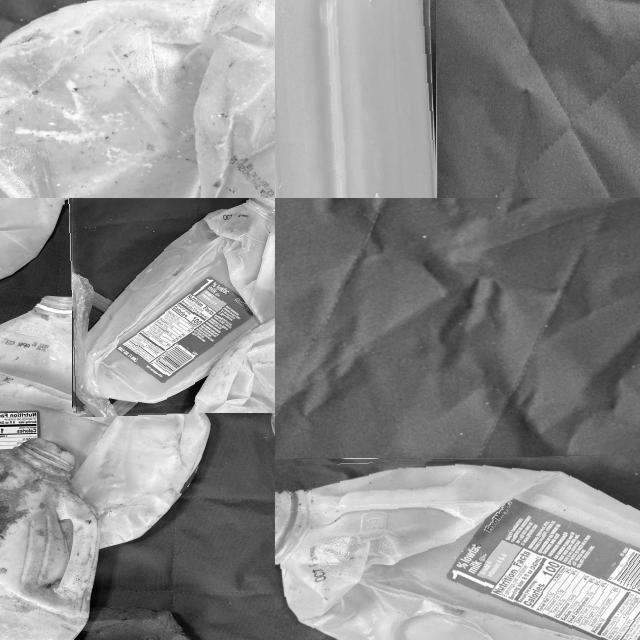milk-jug: (275, 452, 640, 640), (0, 0, 275, 198), (0, 298, 206, 550), (70, 198, 275, 414), (275, 0, 441, 198), (0, 434, 102, 640)
